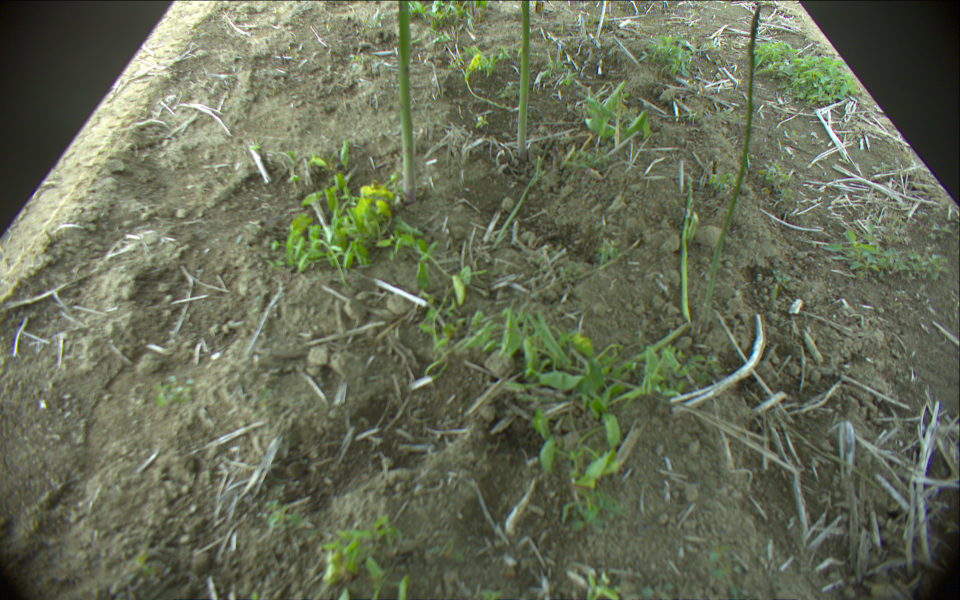aspa: (704, 6, 763, 327), (614, 322, 695, 374), (397, 1, 416, 204), (518, 1, 531, 155), (681, 173, 694, 322)
